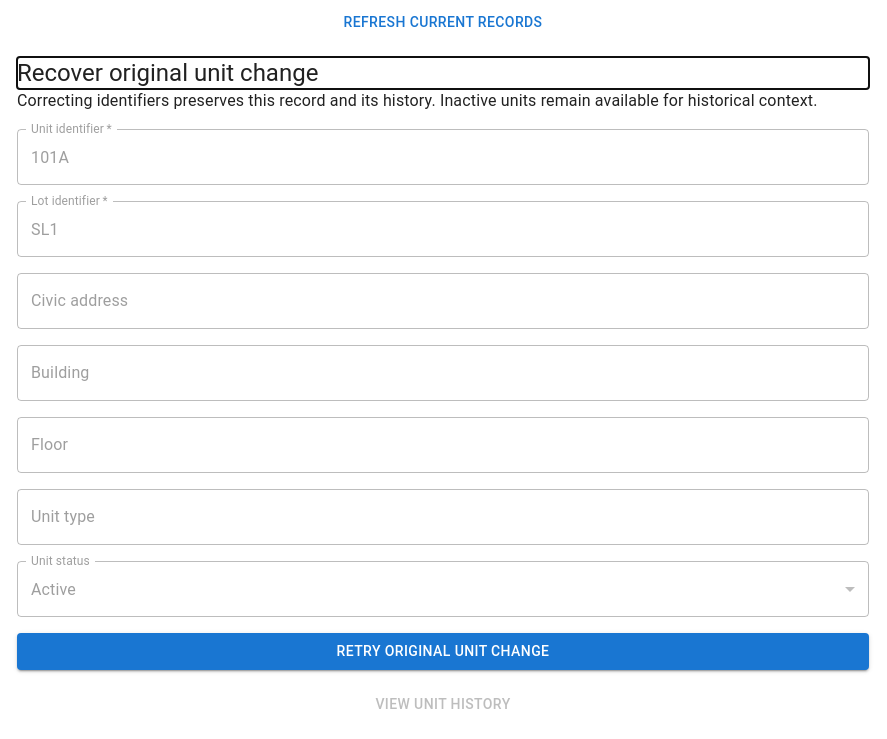
Test case: PRD-28-TC-07/08/09/16: metadata foreground-before-commit and restored version 0 refusal readmit the preserved draft
The image size is (887, 739).
(page scrolled)
Step 1. Click the button "Retry original unit change" → (443, 651), box x1=17 y1=633 x2=869 y2=670
(page scrolled)
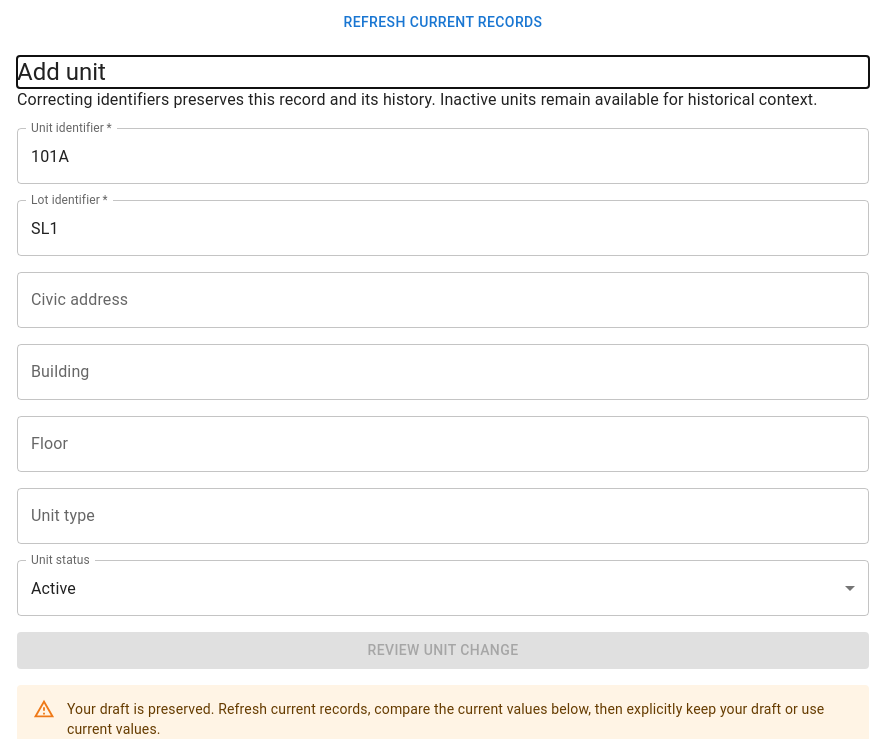
expect the field labelled "Unit identifier *" holds "101A": met, box x1=17 y1=128 x2=869 y2=184
expect the text "Your draft is preserved. Refresh current records" is shown: met, box x1=67 y1=700 x2=824 y2=736
expect the button "Retry original unit change" is gone: met
